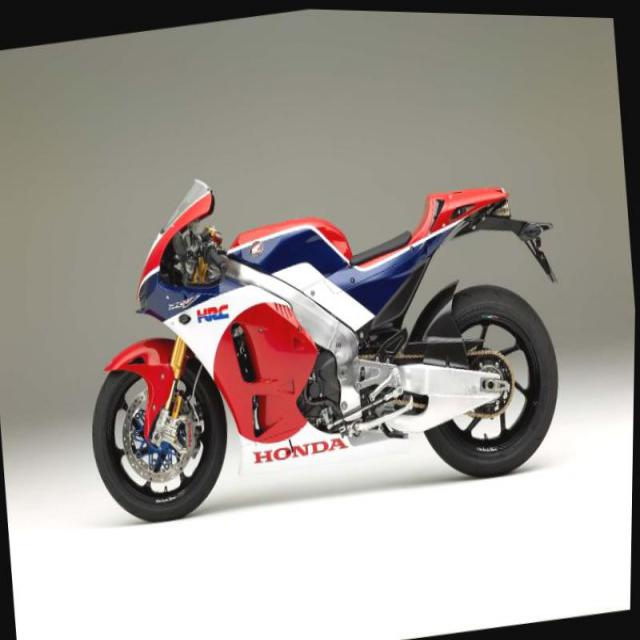HRC RCV 213: (70, 115, 575, 539)
